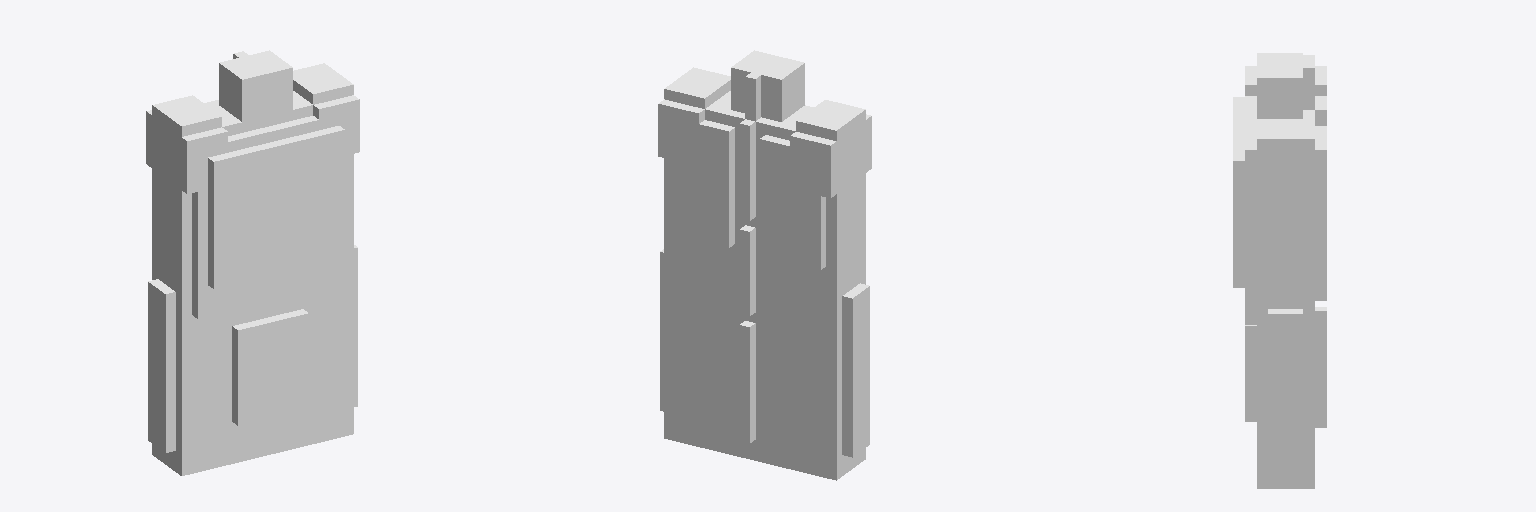
The model's file is robot_chest.obj.
The picture shows the model from 3 angles: view 1: azimuth 30°, elevation 25°; view 2: azimuth 150°, elevation 25°; view 3: azimuth 270°, elevation 25°; orthographic projection.
Parts seen in each view (by area): view 1: robot_chest; view 2: robot_chest; view 3: robot_chest.
Part boxes in pixels (x1,y1,x2,y2): robot_chest: (146, 50, 359, 475); robot_chest: (658, 50, 871, 480); robot_chest: (1233, 53, 1326, 488).
Bounding box in the file's own units: 19 × 36 × 8.